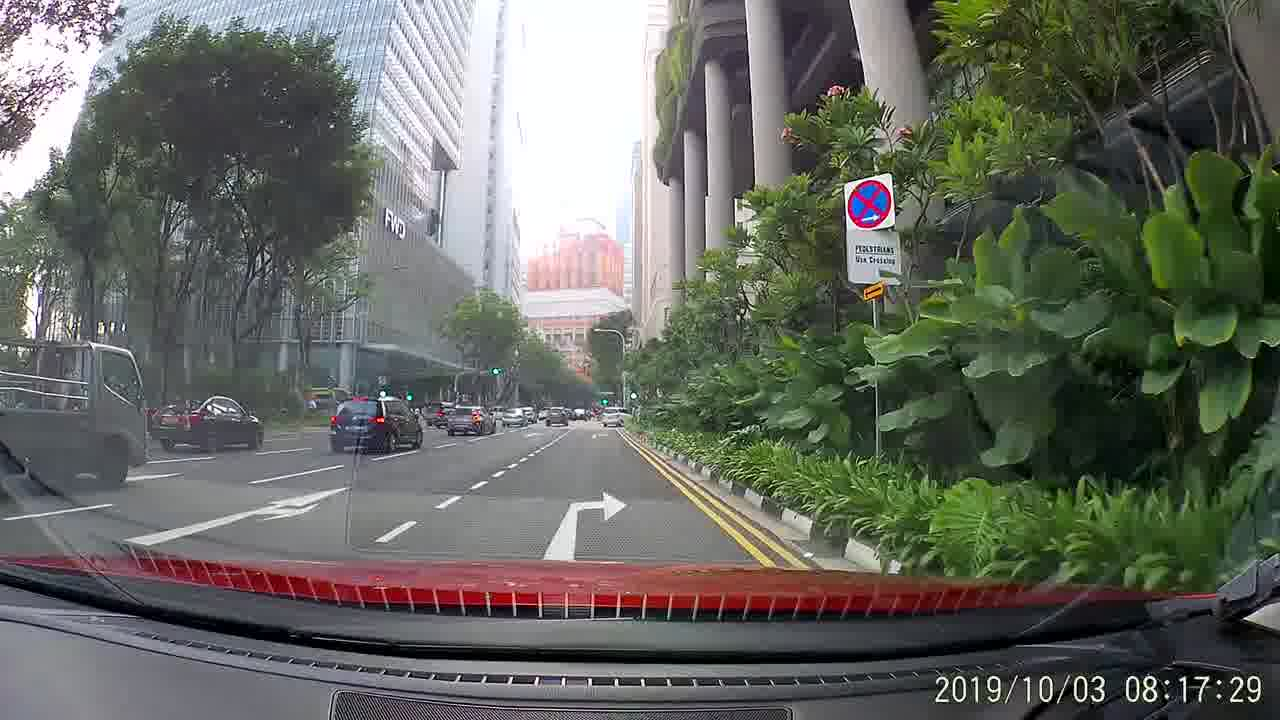car: (327, 389, 425, 455), (151, 395, 268, 450), (451, 405, 498, 434), (541, 401, 574, 429), (602, 405, 634, 430), (501, 404, 528, 427)
